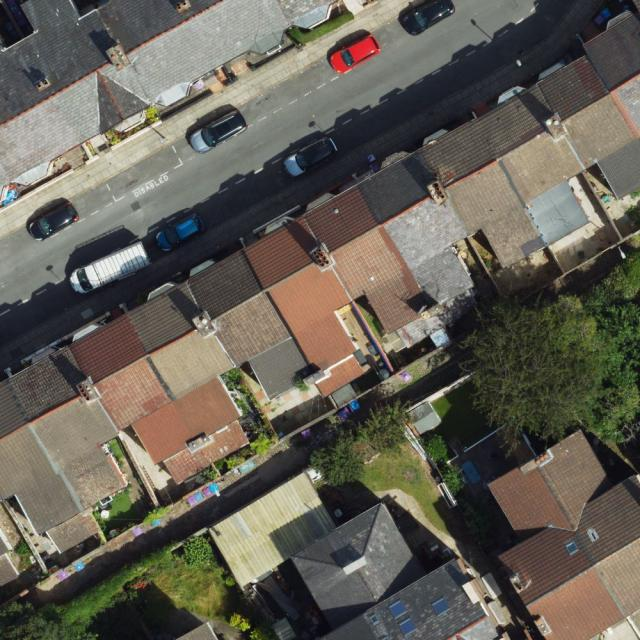roof: (0, 9, 640, 553), (0, 0, 347, 189), (487, 428, 640, 638), (288, 499, 504, 640)
skylight: (387, 598, 410, 620), (397, 615, 419, 637), (431, 596, 452, 617), (367, 611, 383, 626), (564, 540, 581, 553)
